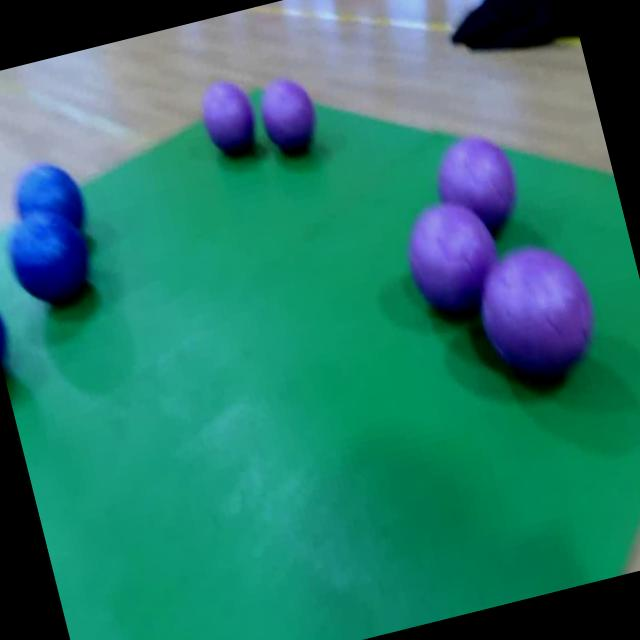blue_ball: (0, 197, 101, 317), (8, 154, 92, 232)
purple_ball: (470, 236, 611, 402), (400, 196, 508, 316), (423, 126, 528, 245), (252, 70, 326, 164), (194, 74, 264, 160)
